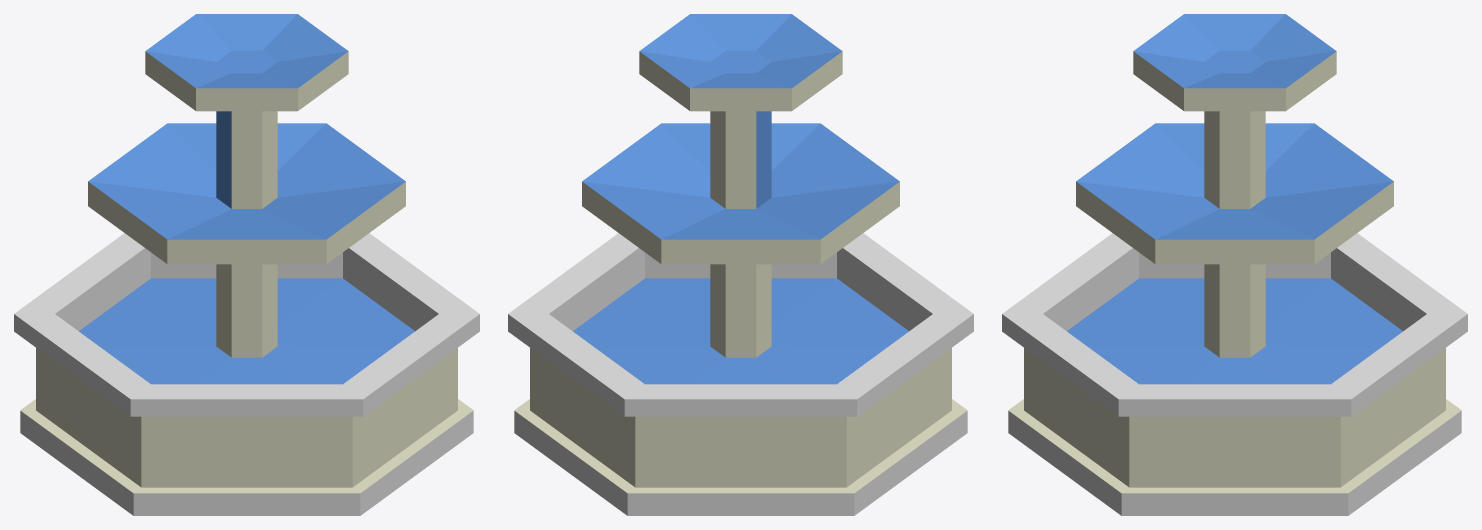
File: fountain_city_oldenburg.fbx
3 views of the same model, side by side, from view 1: azimuth 30°, elevation 25°; view 2: azimuth 150°, elevation 25°; view 3: azimuth 270°, elevation 25° (orthographic).
Visible parts, largest first — view 1: Circle; view 2: Circle; view 3: Circle.
Boxes of the visible parts, <box> form: Circle: <box>14,14,479,515</box>; Circle: <box>508,14,973,515</box>; Circle: <box>1002,14,1467,515</box>.
Size of the model in its own units: 152 by 158 by 175.
